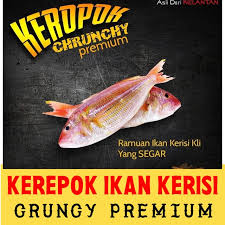Ikan Kerisi: (53, 69, 159, 153)
